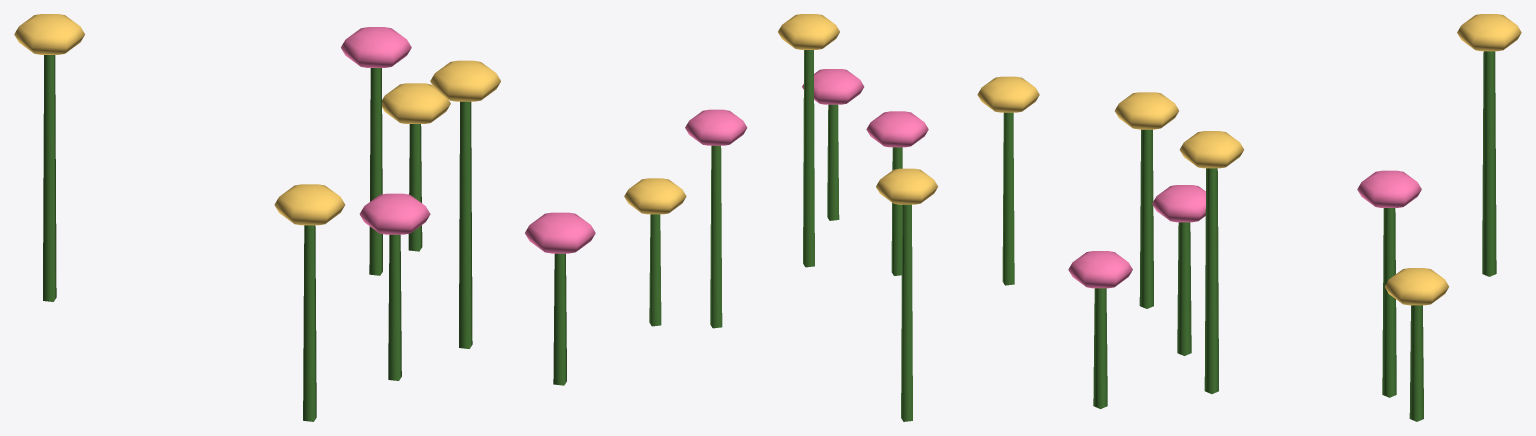
The model's file is flowers.glb.
3 views of the same model, side by side, from view 1: azimuth 30°, elevation 25°; view 2: azimuth 150°, elevation 25°; view 3: azimuth 270°, elevation 25° (orthographic). The views are drawn at different scales.
Visible parts, largest first — view 1: flowers_mesh; view 2: flowers_mesh; view 3: flowers_mesh.
Part boxes in pixels (box(x1,y1,x2,y2)): flowers_mesh: box(14, 14, 595, 421); flowers_mesh: box(624, 14, 1039, 421); flowers_mesh: box(1068, 14, 1521, 421).
Size of the model in its own units: 0.5545 by 0.3926 by 0.6299.
